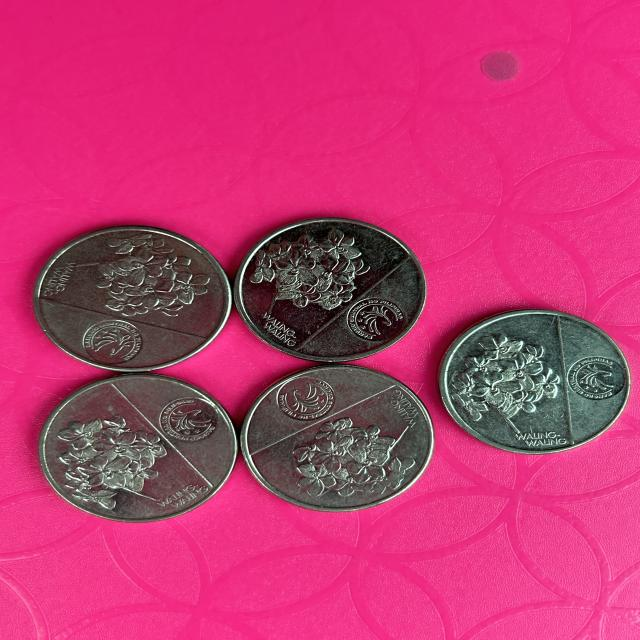1_New_Back: (52, 407, 181, 512), (86, 230, 212, 328), (454, 329, 562, 434), (290, 414, 422, 493), (253, 223, 360, 319)
